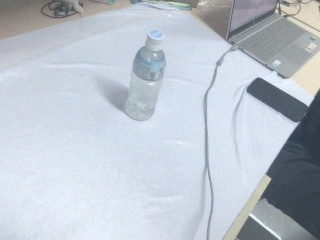bottle: (125, 28, 168, 122)
phone: (245, 76, 311, 124)
